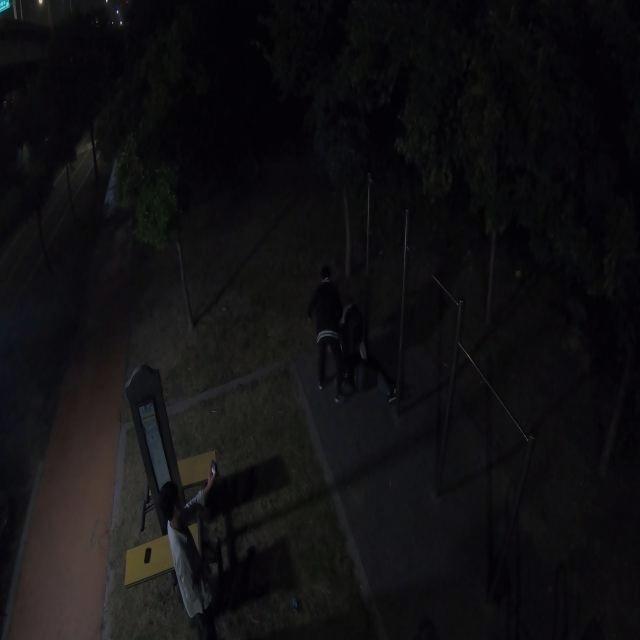fight: (306, 269, 372, 408)
